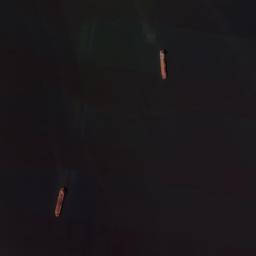boat: (54, 186, 64, 216), (159, 50, 166, 78)
